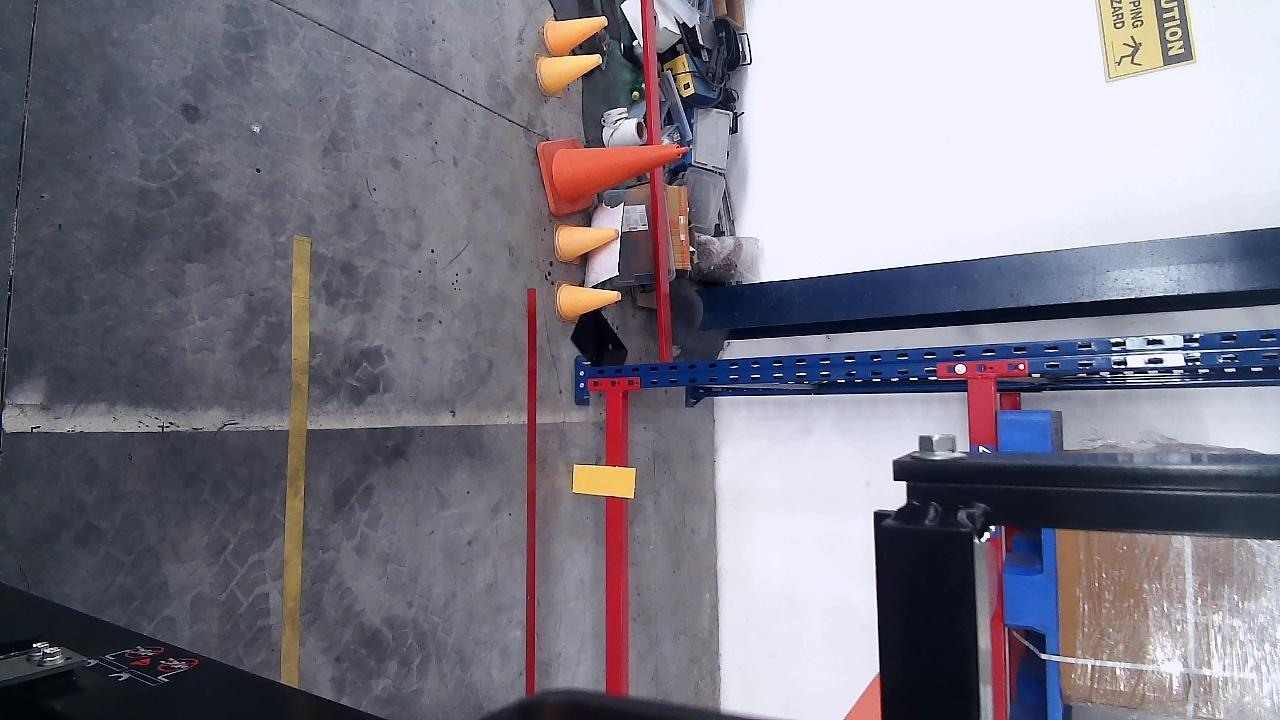h_rack: (605, 390, 628, 698)
orange_strip: (576, 466, 635, 497)
red_line: (524, 289, 538, 695)
small_pallet: (998, 412, 1060, 719)
yellow_line: (276, 235, 310, 689)
